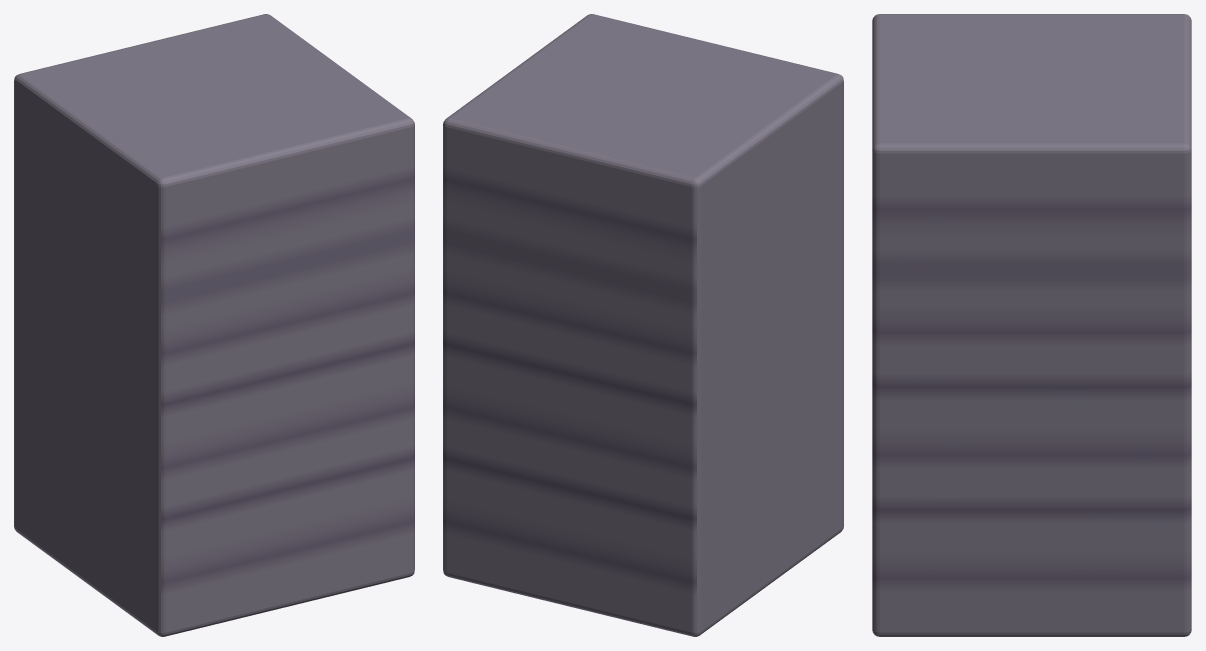
Rendered from GrayOfficeBuilding_Mesh.fbx.
The picture shows the model from 3 angles, left to right: view 1: azimuth 30°, elevation 25°; view 2: azimuth 150°, elevation 25°; view 3: azimuth 270°, elevation 25°; orthographic projection. The views are drawn at different scales.
Parts seen in each view (by area): view 1: Cube.001; view 2: Cube.001; view 3: Cube.001.
Part boxes in pixels (x1,y1,x2,y2): Cube.001: (14,14,414,636); Cube.001: (443,14,843,636); Cube.001: (872,14,1191,636).
Size of the model in its own units: 634 by 1079 by 634.
1 material, 1 textured.
